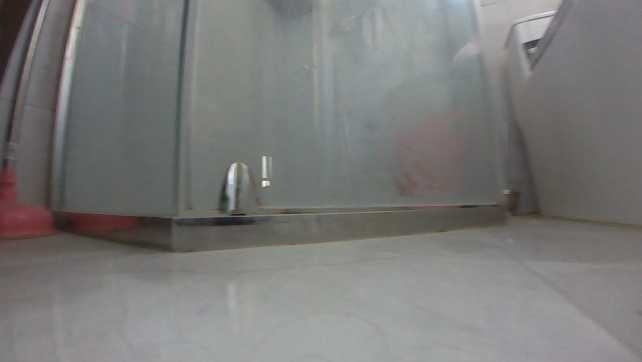toilet: (496, 0, 640, 228)
